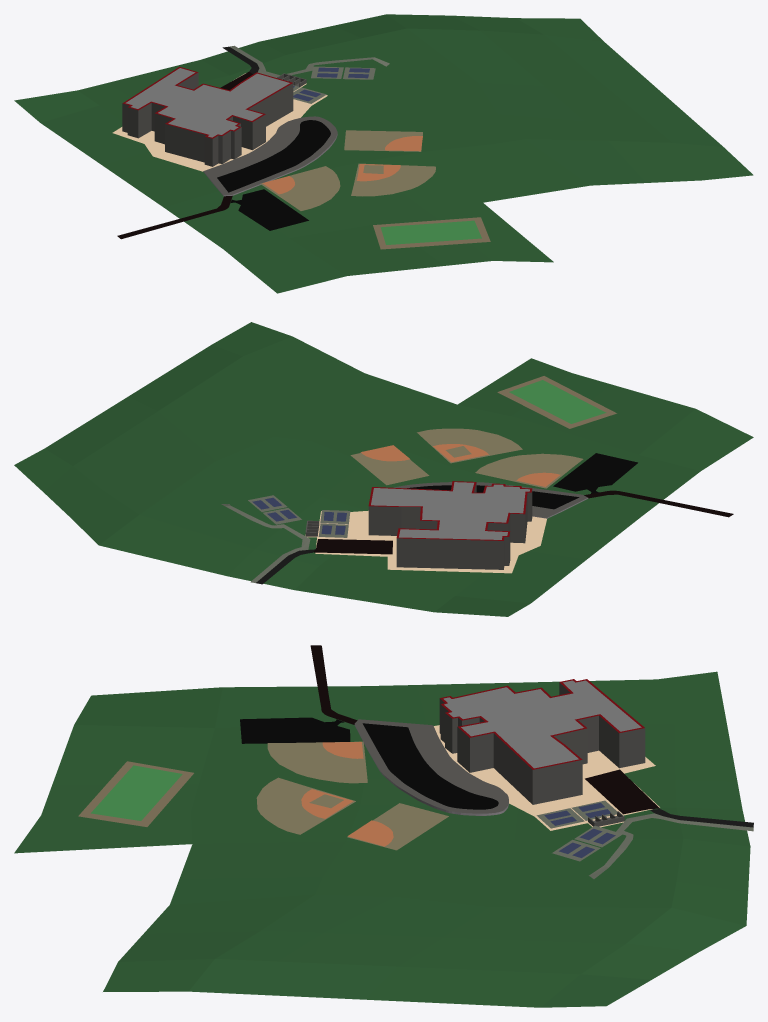
The model's file is broadneckbg.glb.
3 renders of one model, top to bottom at view 1: azimuth 30°, elevation 25°; view 2: azimuth 150°, elevation 25°; view 3: azimuth 270°, elevation 25°, orthographic. The views are drawn at different scales.
Parts seen in each view (by area): view 1: Plane.021, Cylinder.087, Cylinder.099; view 2: Plane.021, Cylinder.087, Cylinder.099; view 3: Plane.021, Cylinder.087, Cylinder.099.
Boxes of the visible parts, x1,y1,x2,y2 form: Plane.021: (14,14,753,293); Cylinder.087: (112,45,490,249); Cylinder.099: (122,66,293,166); Plane.021: (14,322,753,616); Cylinder.087: (221,376,733,584); Cylinder.099: (368,481,532,569); Plane.021: (14,671,750,1007); Cylinder.087: (78,645,753,878); Cylinder.099: (439,679,645,804).
Size of the model in its own units: 1.13 by 0.0762 by 1.
